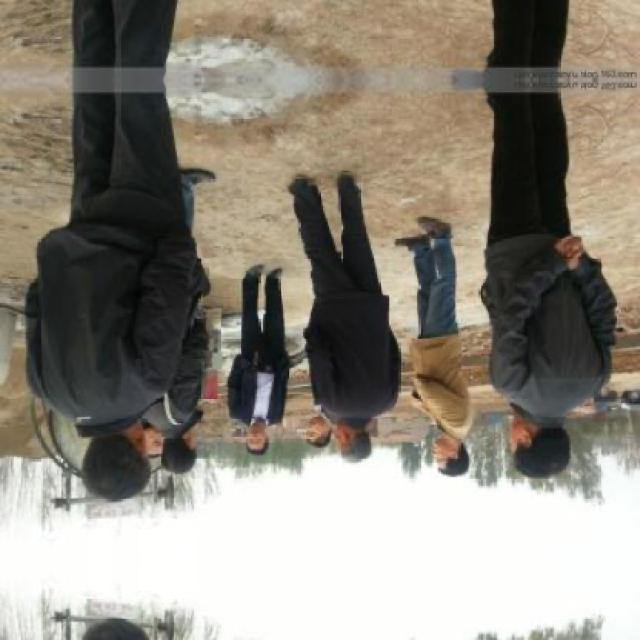sin casco: (424, 382, 570, 486), (493, 366, 596, 489), (297, 396, 396, 472), (85, 407, 162, 497), (287, 393, 366, 462), (208, 405, 290, 468), (136, 418, 200, 488)
